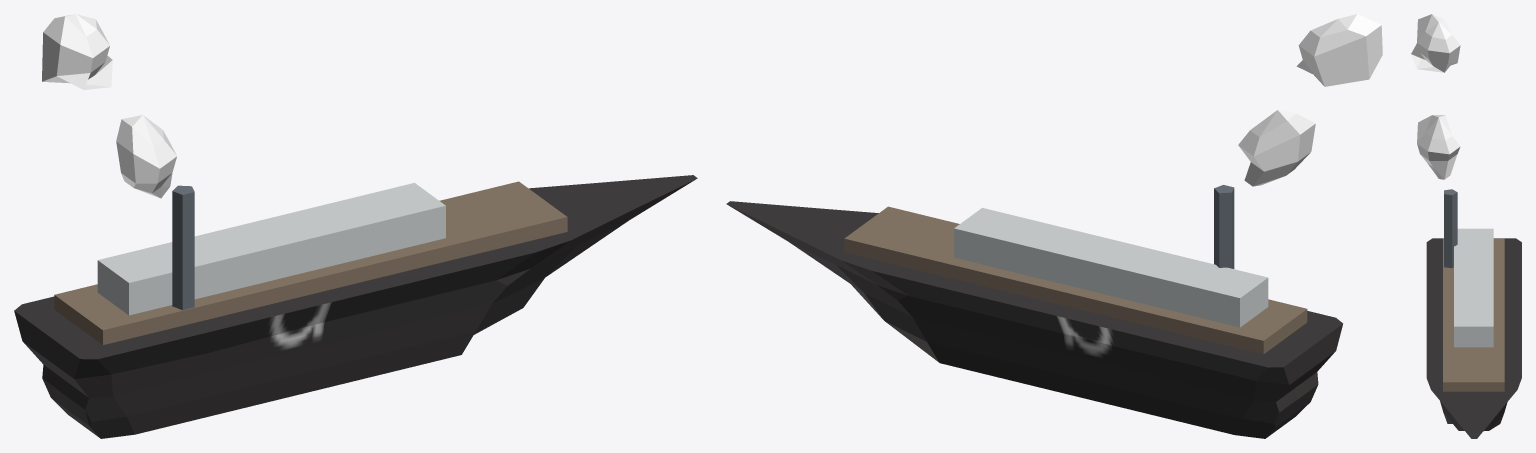
File: ofune.fbx
3 renders of one model, left to right at view 1: azimuth 30°, elevation 25°; view 2: azimuth 150°, elevation 25°; view 3: azimuth 270°, elevation 25°, orthographic. The views are drawn at different scales.
Visible parts, largest first — view 1: 立方体, 立方体.003, 立方体.001, 円柱; view 2: 立方体, 立方体.003, 立方体.001, 円柱; view 3: 立方体.003, 立方体, 立方体.001, 円柱.
Boxes of the visible parts, x1,y1,x2,y2 form: 立方体: (14, 175, 697, 438); 立方体.003: (42, 14, 567, 344); 立方体.001: (97, 183, 445, 315); 円柱: (172, 185, 194, 310); 立方体: (726, 201, 1343, 438); 立方体.003: (844, 14, 1382, 354); 立方体.001: (954, 207, 1268, 327); 円柱: (1214, 185, 1234, 268); 立方体.003: (1411, 14, 1504, 391); 立方体: (1426, 238, 1521, 438); 立方体.001: (1454, 228, 1493, 347); 円柱: (1444, 189, 1457, 268).
Size of the model in its own units: 2518 by 1577 by 560.
